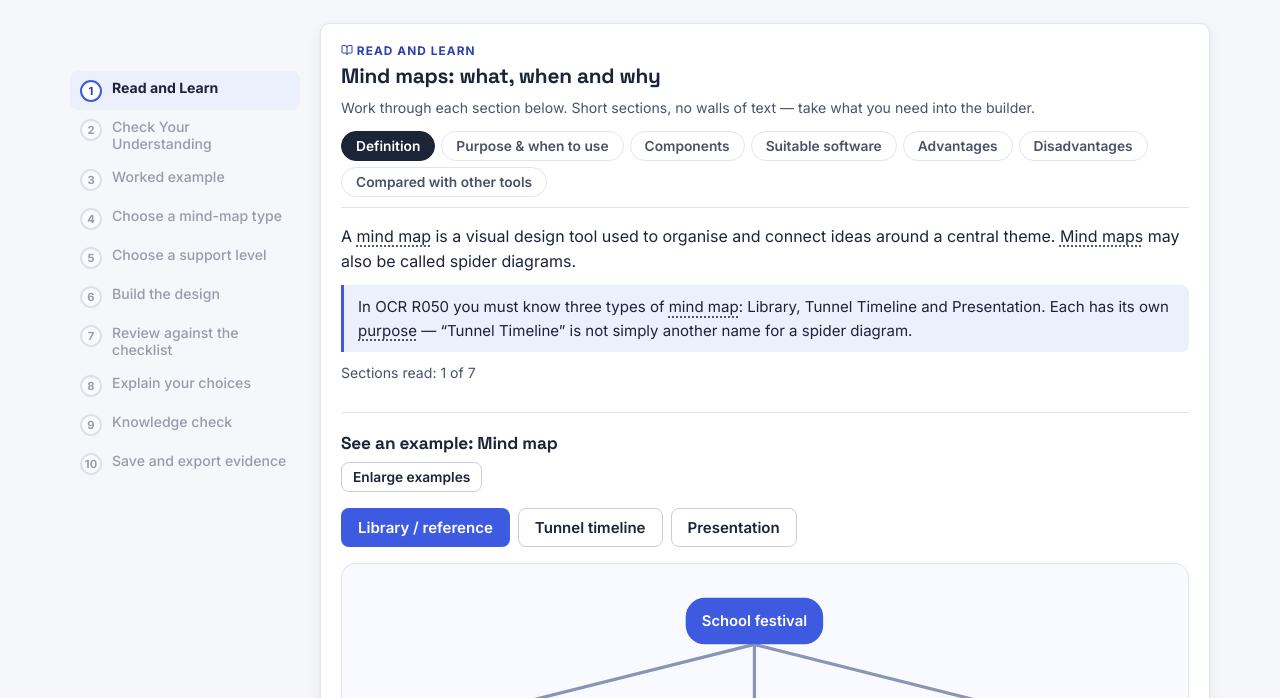
App smoke tests › renders the mind-map lesson journey starting at Read and Learn
Check: the text "Read and Learn" is shown, box [112, 79, 218, 96]
Check: the text "organise and connect ideas around a central theme" is shown, box [431, 226, 1060, 246]
// tabs switch
Click the tab "Disadvantages" at (1083,146), box [1019, 131, 1148, 161]
(page scrolled)
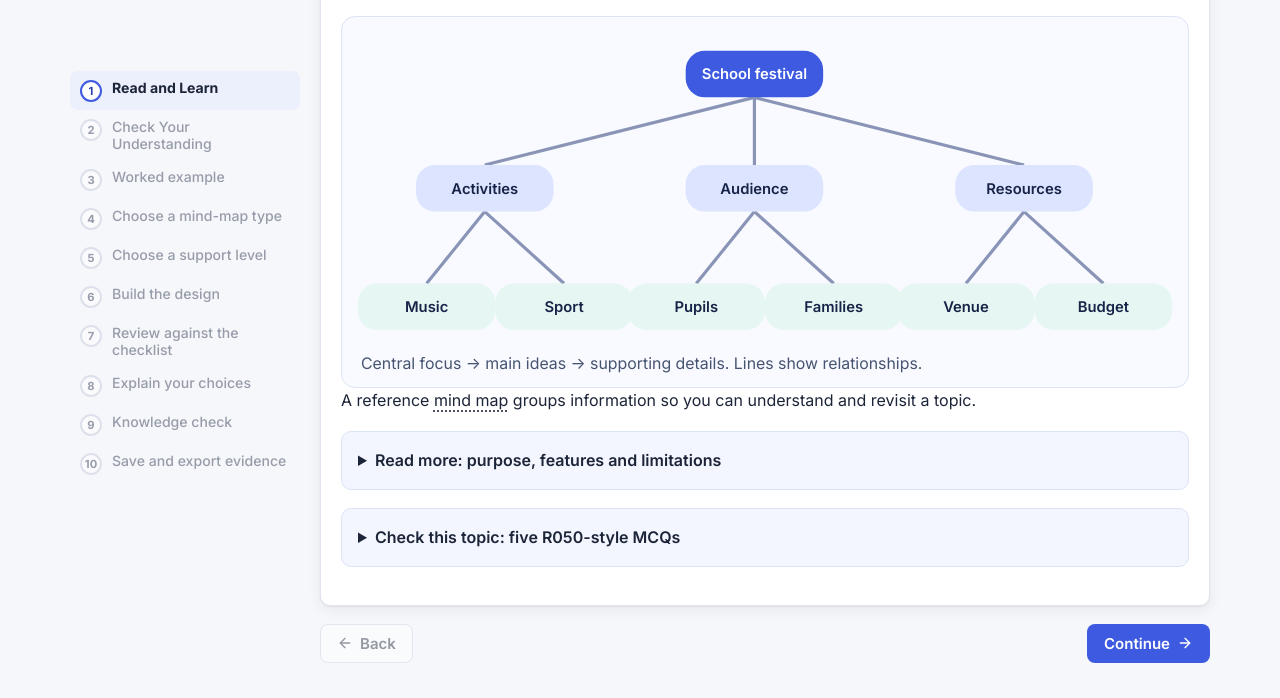
// continue unlocks the next step
Click the button "Continue" at (1148,643), box [1087, 624, 1210, 663]
(page scrolled)
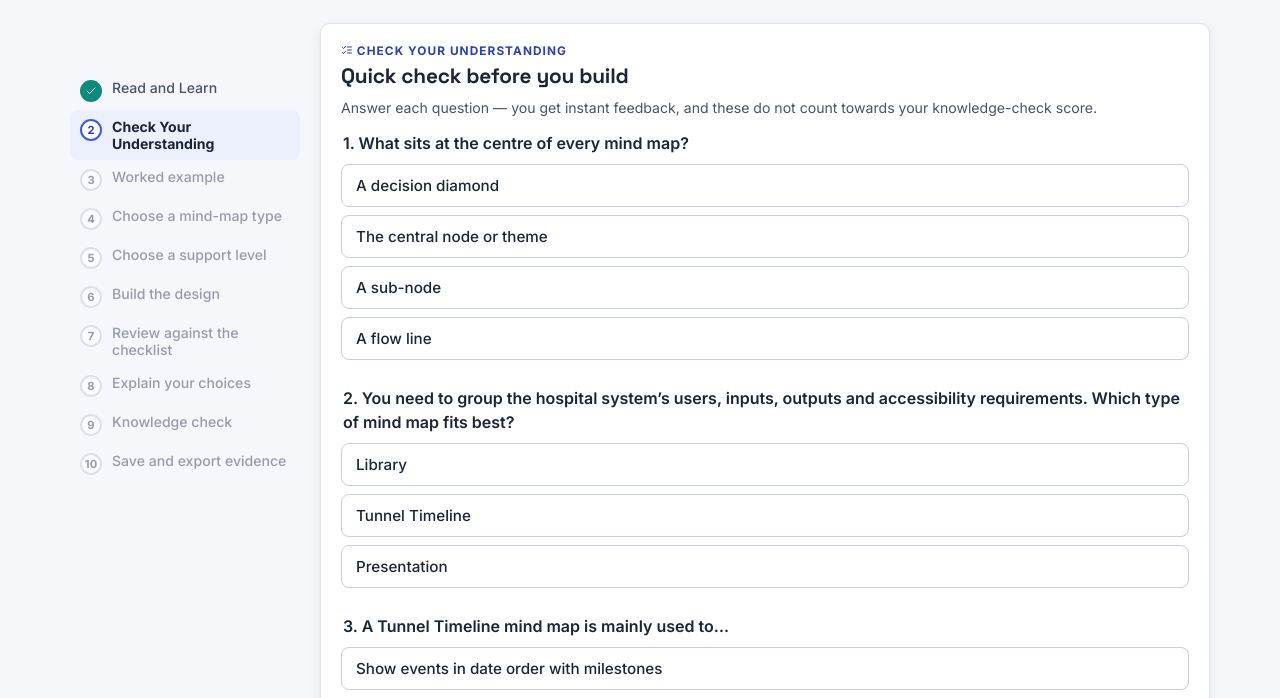
Check: the heading "Quick check before you build" is shown, box [341, 63, 629, 89]
